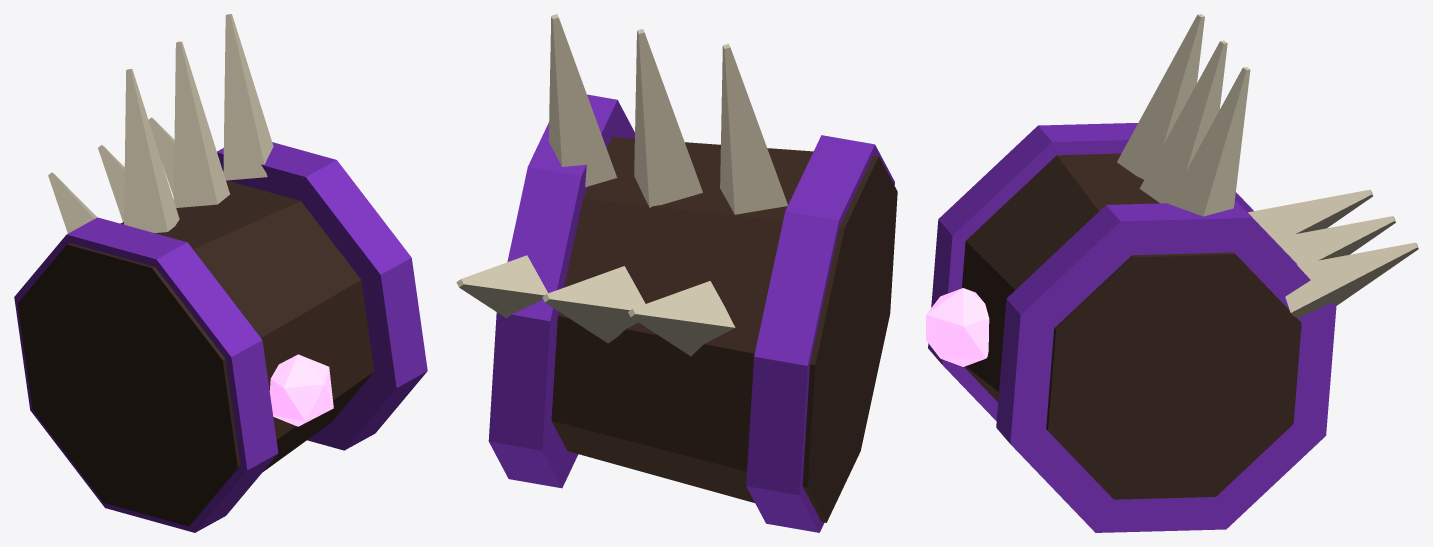
File: Boss_Archer_Bracer_R.fbx
3 renders of one model, left to right at view 1: azimuth 30°, elevation 25°; view 2: azimuth 150°, elevation 25°; view 3: azimuth 270°, elevation 25°, orthographic. The views are drawn at different scales.
Parts seen in each view (by area): view 1: Boss_Archer_Bracer_R; view 2: Boss_Archer_Bracer_R; view 3: Boss_Archer_Bracer_R.
Boxes of the visible parts, x1,y1,x2,y2 form: Boss_Archer_Bracer_R: [14, 14, 427, 532]; Boss_Archer_Bracer_R: [456, 14, 897, 532]; Boss_Archer_Bracer_R: [926, 14, 1418, 532].
Bounding box in the file's own units: 0.1927 × 0.2537 × 0.248.
